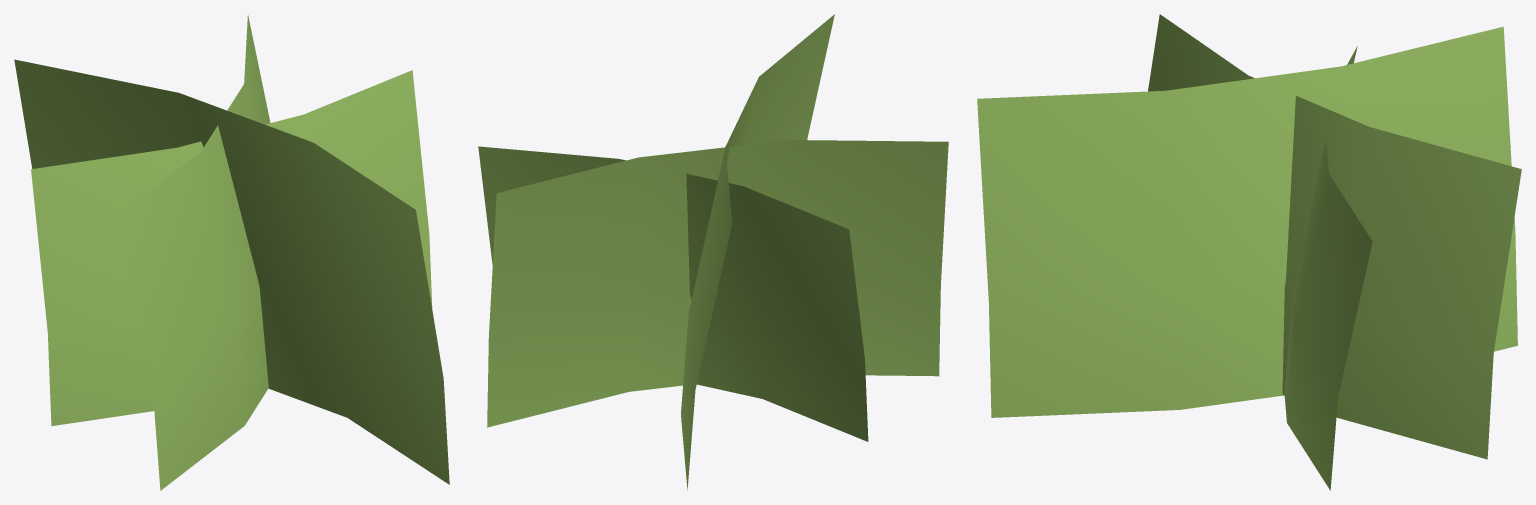
The model's file is GrassPlanes_a_TwoS_10.fbx.
3 renders of one model, left to right at view 1: azimuth 30°, elevation 25°; view 2: azimuth 150°, elevation 25°; view 3: azimuth 270°, elevation 25°, orthographic. The views are drawn at different scales.
Visible parts, largest first — view 1: GrassPlanes_a_TwoS_10; view 2: GrassPlanes_a_TwoS_10; view 3: GrassPlanes_a_TwoS_10.
Boxes of the visible parts, left/top/right/bottom form: GrassPlanes_a_TwoS_10: left=14, top=15, right=449, bottom=490; GrassPlanes_a_TwoS_10: left=478, top=14, right=948, bottom=490; GrassPlanes_a_TwoS_10: left=977, top=14, right=1521, bottom=490.
Bounding box in the file's own units: 92.03 × 64.79 × 106.
